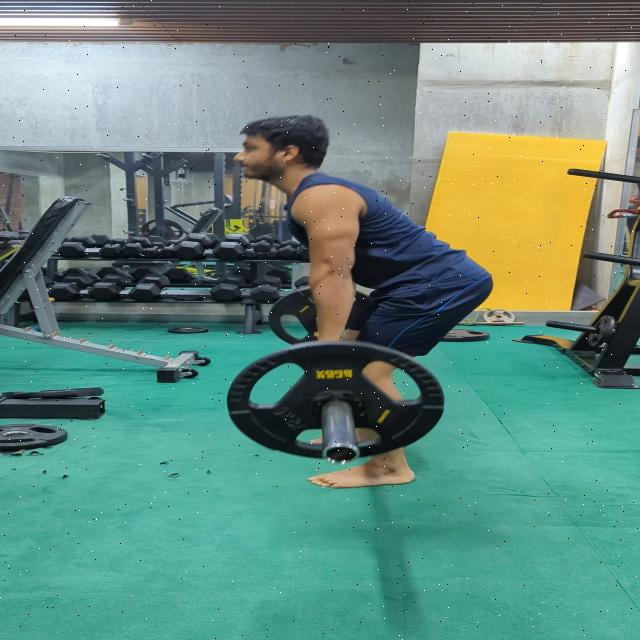Normal_Deadlifts: (230, 113, 496, 491)
